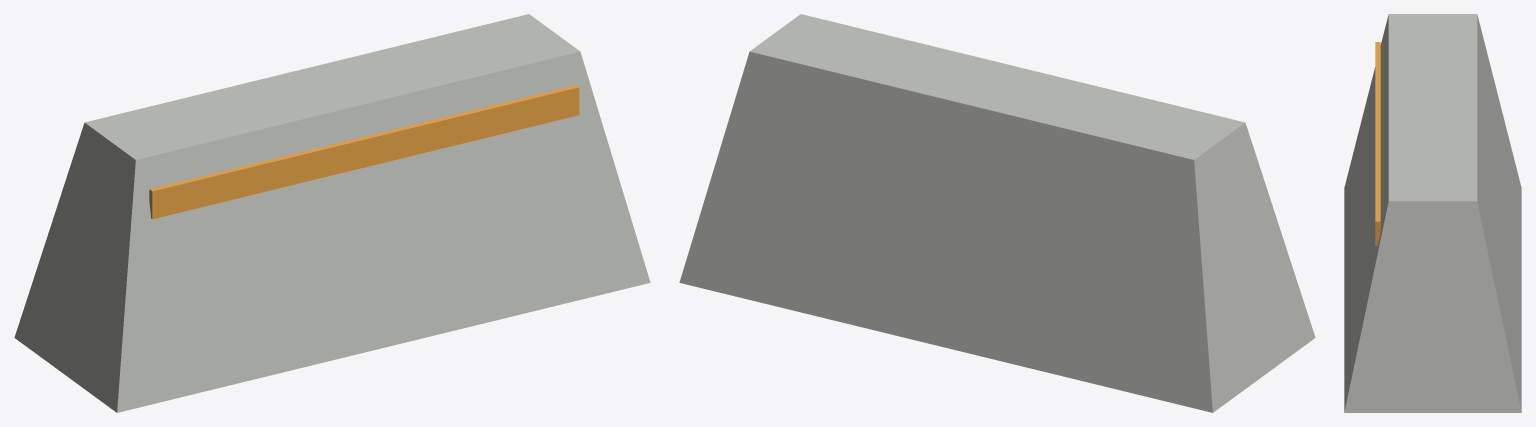
Rendered from mech-hangar-and-battle-frames-cover-barrier-64089838__26981.glb.
The picture shows the model from 3 angles, left to right: view 1: azimuth 30°, elevation 25°; view 2: azimuth 150°, elevation 25°; view 3: azimuth 270°, elevation 25°; orthographic projection. The views are drawn at different scales.
Parts seen in each view (by area): view 1: cover-barrier; view 2: cover-barrier; view 3: cover-barrier.
Part boxes in pixels (x1=…): cover-barrier: x1=14, y1=14, x2=650, y2=412; cover-barrier: x1=679, y1=14, x2=1315, y2=412; cover-barrier: x1=1344, y1=14, x2=1521, y2=412.
Bounding box in the file's own units: 3 × 1.2 × 0.9999.
